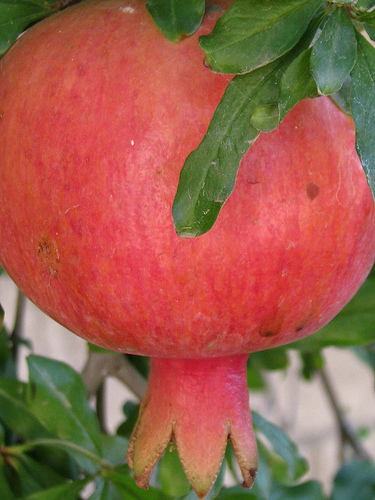pomogranate: (1, 1, 372, 498)
